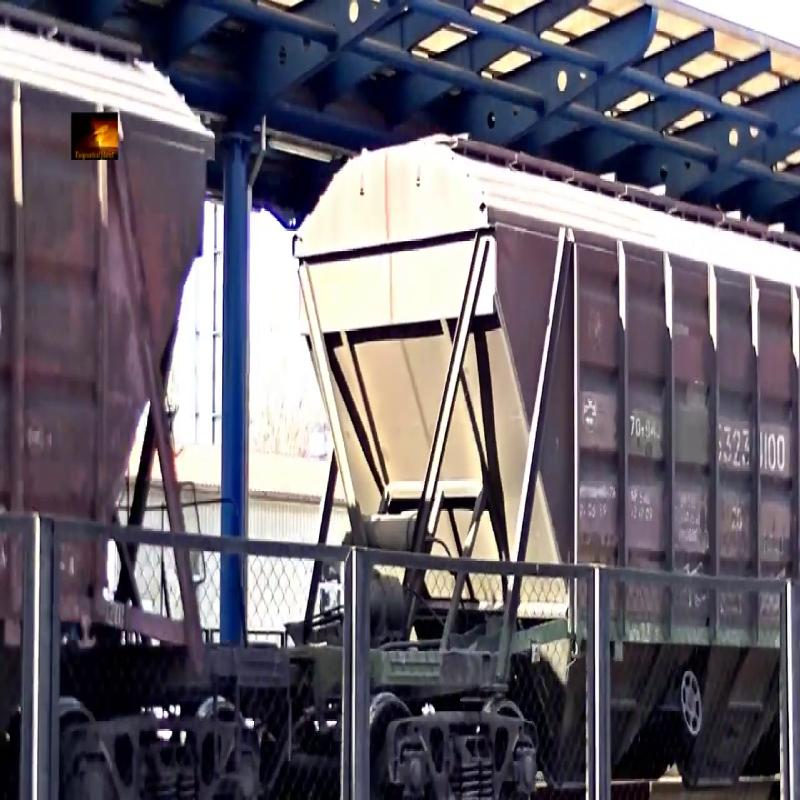train: (291, 21, 800, 769), (3, 22, 239, 771)
